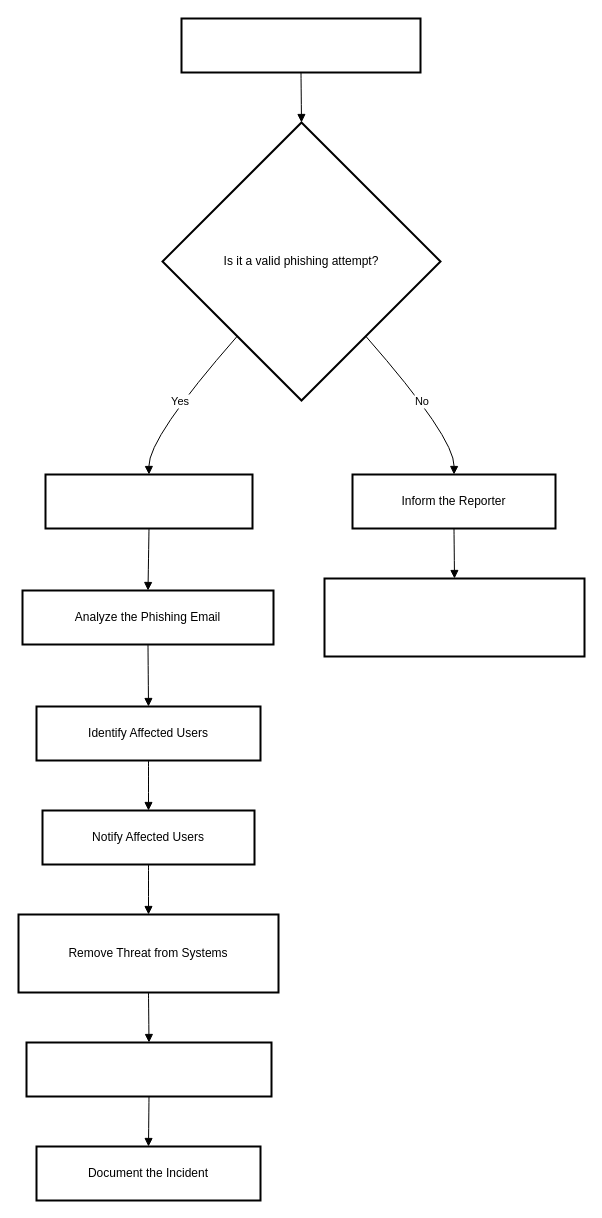
Some shapes in this 602 by 1218 pixel diagram are drawn without their labels. Here are the shapes that lost their labels. From the top down, the box of each, then its label:
(180, 17, 421, 73): Phishing Report Received
(44, 473, 253, 529): Contain the Incident
(323, 577, 585, 657): Monitor for Future Incidents
(25, 1041, 272, 1097): Update Security Measures
